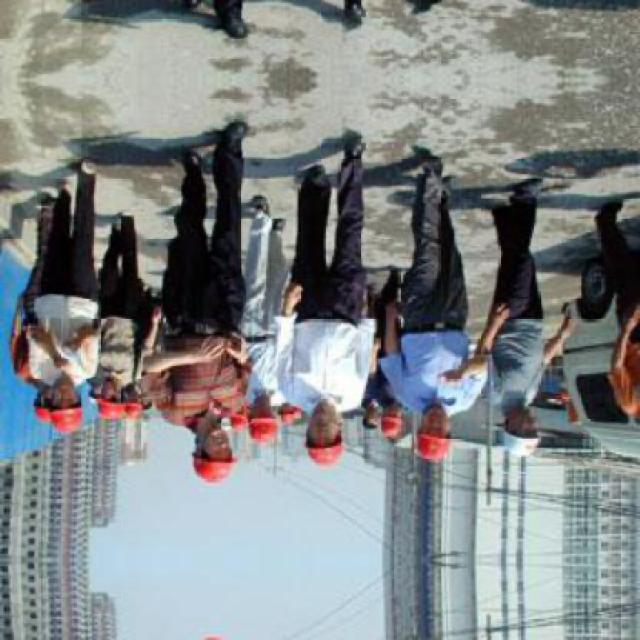con casco: (116, 418, 300, 504), (464, 398, 598, 478), (27, 378, 142, 458), (285, 394, 370, 476), (397, 389, 462, 466)
